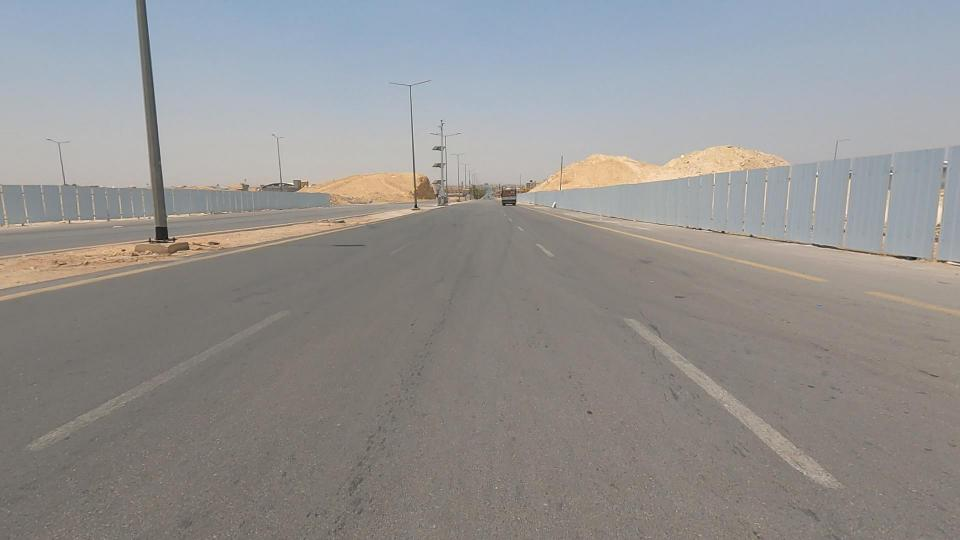GARBAGE: (533, 189, 573, 223)
